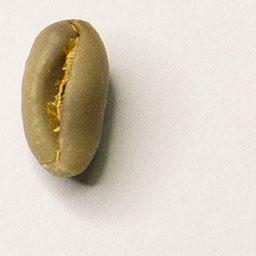longberry: (18, 16, 114, 182)
